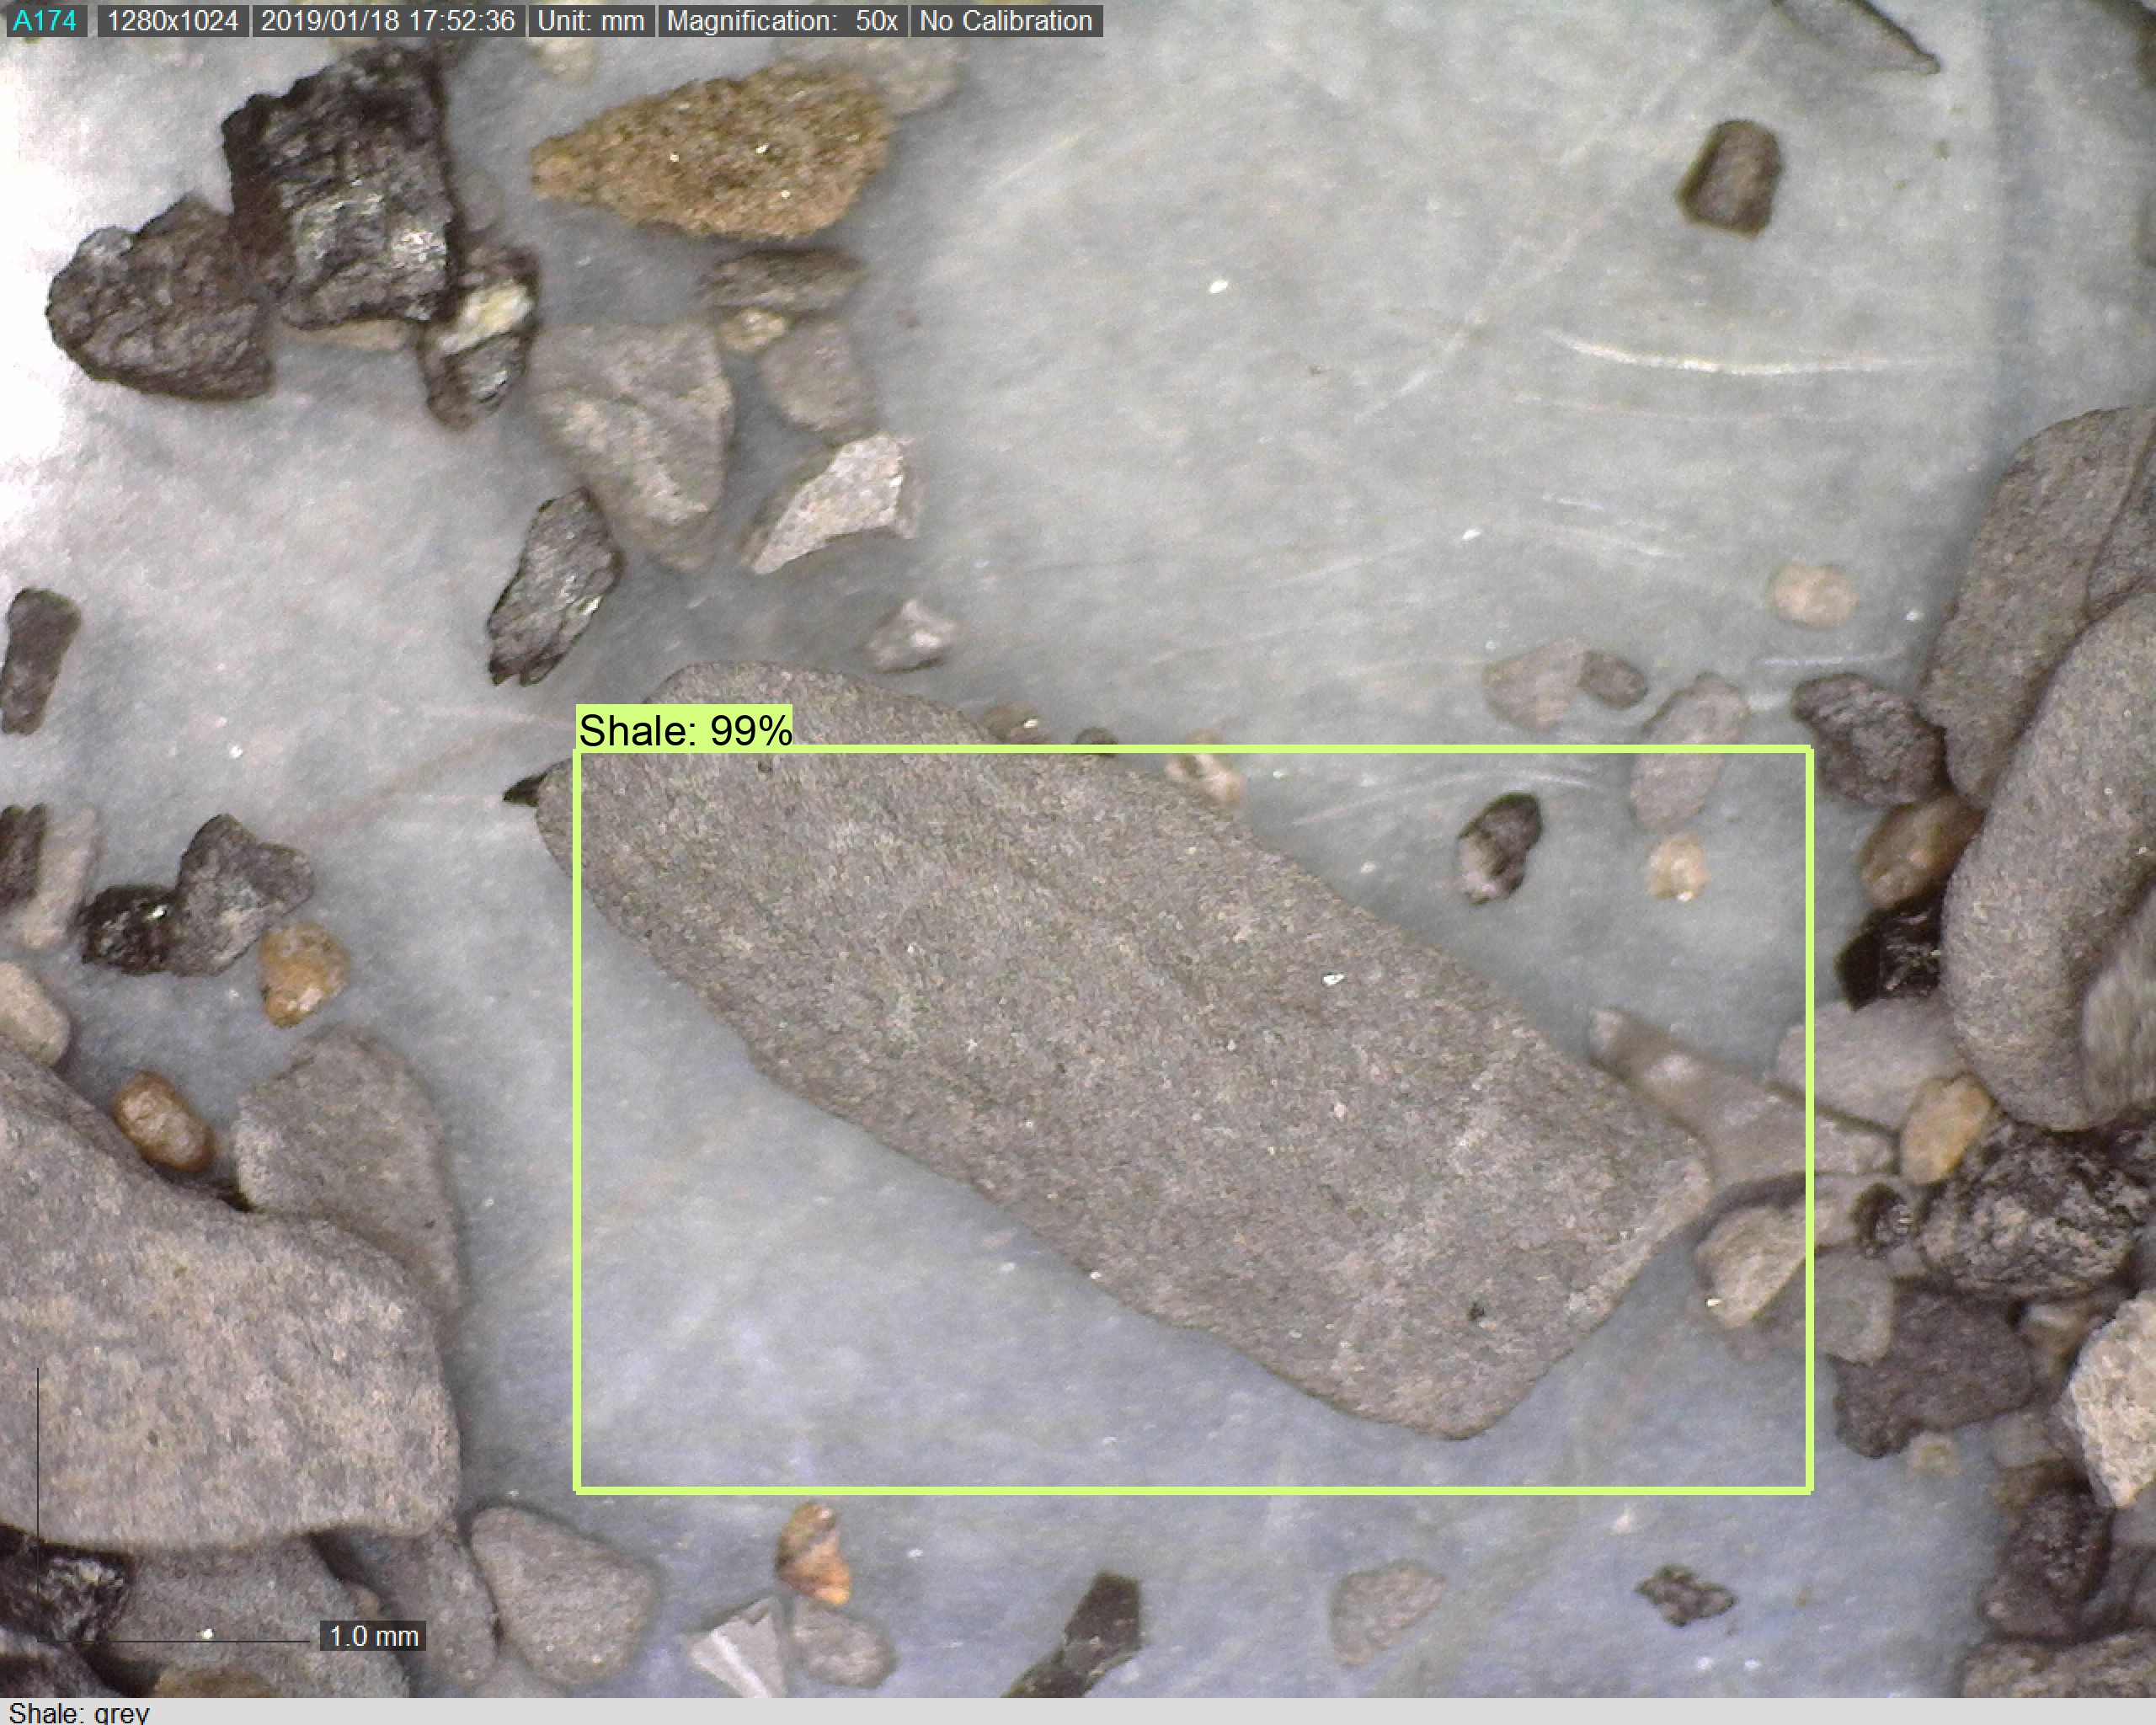Shale: (510, 650, 1725, 1457)
